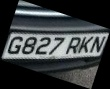character: (48, 36, 65, 54), (89, 35, 106, 53), (7, 35, 23, 54), (21, 36, 37, 54), (35, 36, 51, 54), (65, 36, 81, 54), (77, 35, 93, 53)
